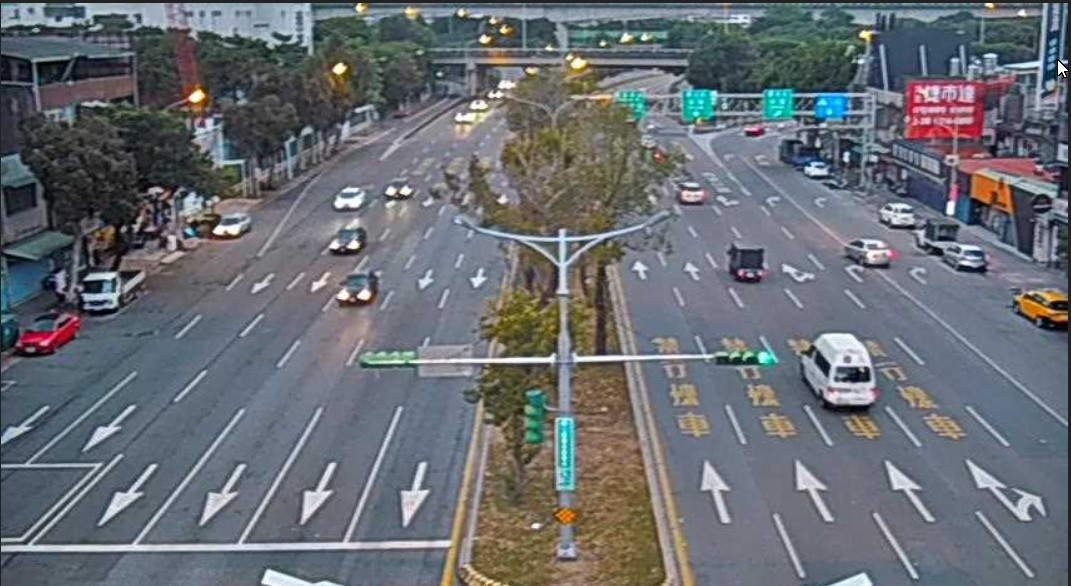Business Passenger Car: (1007, 273, 1069, 341)
Private Passenger Car: (801, 325, 883, 423), (15, 305, 77, 359), (335, 259, 381, 317), (727, 235, 771, 285), (847, 227, 897, 269), (939, 237, 989, 277), (329, 221, 369, 259), (381, 169, 419, 207), (879, 189, 915, 227), (213, 211, 251, 247), (329, 181, 369, 213), (679, 180, 708, 210)
